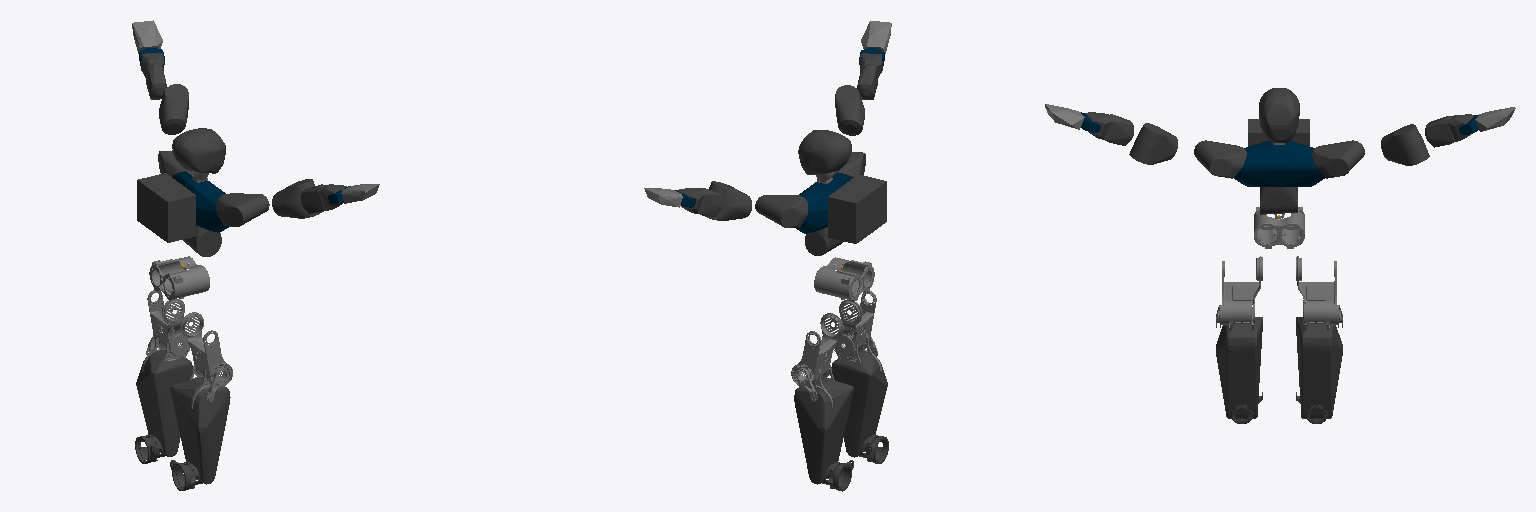
--- Facts derived from the render (not from the file) ---
The picture shows the robot from 3 angles, left to right: view 1: azimuth 30°, elevation 25°; view 2: azimuth 150°, elevation 25°; view 3: azimuth 270°, elevation 25°; orthographic projection.
Model bigman with 97 links and 96 joints (31 revolute, 1 continuous, 63 fixed, 1 floating), rooted at world, posed all joints at 0 but 2 set to mid-range because 0 is outside their limits (RShLat = -1.99, LShLat = 1.97).
Links seen in each view (by area): view 1: RLowLeg, LLowLeg, backpack, RThighLowLeg, LThighLowLeg, Waist, multisense/head, RShp, DWYTorso, LShy, RShy, DWS (+5 smaller); view 2: LLowLeg, RLowLeg, backpack, LThighLowLeg, RThighLowLeg, Waist, multisense/head, LShp, DWYTorso, RShy, LShy, RSoftHandLink (+6 smaller); view 3: LLowLeg, RLowLeg, DWYTorso, multisense/head, LThighLowLeg, RThighLowLeg, Waist, RShp, LShy, LShp, RShy, DWS (+5 smaller).
Link boxes in pixels (x1=…): RLowLeg: x1=170, y1=377, x2=230, y2=484; LLowLeg: x1=136, y1=350, x2=192, y2=456; backpack: x1=137, y1=173, x2=195, y2=242; RThighLowLeg: x1=180, y1=312, x2=232, y2=408; LThighLowLeg: x1=142, y1=290, x2=189, y2=371; Waist: x1=149, y1=256, x2=209, y2=300; multisense/head: x1=172, y1=128, x2=225, y2=173; RShp: x1=216, y1=193, x2=269, y2=226; DWYTorso: x1=172, y1=172, x2=228, y2=232; LShy: x1=159, y1=84, x2=188, y2=134; RShy: x1=272, y1=179, x2=319, y2=218; DWS: x1=183, y1=226, x2=221, y2=256; LLowLeg: x1=794, y1=378, x2=853, y2=484; RLowLeg: x1=831, y1=351, x2=887, y2=457; backpack: x1=828, y1=174, x2=886, y2=243; LThighLowLeg: x1=791, y1=313, x2=843, y2=407; RThighLowLeg: x1=834, y1=291, x2=881, y2=371; Waist: x1=814, y1=257, x2=874, y2=301; multisense/head: x1=798, y1=130, x2=851, y2=174; LShp: x1=755, y1=195, x2=807, y2=227; DWYTorso: x1=796, y1=173, x2=851, y2=233; RShy: x1=835, y1=85, x2=864, y2=135; LShy: x1=705, y1=181, x2=751, y2=220; RSoftHandLink: x1=861, y1=21, x2=891, y2=53; LLowLeg: x1=1296, y1=317, x2=1342, y2=418; RLowLeg: x1=1216, y1=317, x2=1262, y2=418; DWYTorso: x1=1234, y1=141, x2=1324, y2=186; multisense/head: x1=1259, y1=88, x2=1299, y2=142; LThighLowLeg: x1=1296, y1=256, x2=1342, y2=330; RThighLowLeg: x1=1216, y1=256, x2=1262, y2=330; Waist: x1=1254, y1=207, x2=1304, y2=248; RShp: x1=1194, y1=140, x2=1246, y2=178; LShy: x1=1381, y1=124, x2=1429, y2=165; LShp: x1=1312, y1=140, x2=1364, y2=178; RShy: x1=1129, y1=123, x2=1177, y2=164; DWS: x1=1260, y1=187, x2=1297, y2=214.
Bounding box of the posed robot: 0.6454 × 2.28 × 1.88 m (x, y, z).
24 mesh visuals loaded from 22 distinct referenced files (15 binary STL); not drawn: 3 (reference not matched to a file when rendering), 9 (file found but could not be loaded).

The robot description file, URDF, robot "bigman":
<?xml version="1.0" ?>
<!-- =================================================================================== -->
<!-- |    This document was autogenerated by xacro from bigman.urdf.xacro              | -->
<!-- |    EDITING THIS FILE BY HAND IS NOT RECOMMENDED                                 | -->
<!-- =================================================================================== -->
<robot name="bigman" xmlns:xacro="http://ros.org/wiki/xacro">
  <!-- 
  ROS urdf definition of the BIGMAN humanoid robot by Istituto Italiano di Tecnologia
  
  DO NOT INCLUDE THIS FILE DIRECTLY! USE bigman_robot.urdf.xacro INSTEAD!

  Author: Enrico Mingo & Alessio Rocchi

  Inertial matrix has to be in CoM frame (URDF specs)

  Velocity and effort limits are fake!
-->
  <!-- ************ MODEL CONFIGURATION ************ -->
  <!--
####################################################
##
##  BIGMAN_YARP
##  if "true" the bigman robot is controlled via YARP
##
####################################################
-->
  <!--
####################################################
##
##  BIGMAN_XBOT
##  if "true" the bigman robot is controlled via
##  XBotCore Suite
##
####################################################
-->
  <!--
####################################################
##
##  BIGMAN_UPPER_BODY
##  if "true" the kinematic chains of the arms and torso 
##  will be used to generate the model
##
####################################################
-->
  <!--
####################################################
##
##  BIGMAN_LEGS
##  if "true" the kinematic chains of the legs
##  will be used to generate the model
##
####################################################
-->
  <!--
####################################################
##
##  BIGMAN_OLD_CHEST
##  if "true" the old version of the chest will be
##  used.
##  
##
####################################################
-->
  <!--
####################################################
##
##  BIGMAN_FIXED_HANDS
##  if "true" a fixed joint between wrist and hand 
##  will be used otherwise a rotative joints will
##  be used.
##  
##
####################################################
-->
  <!--
####################################################
##
##  BIGMAN_FIXED_MULTISENSE
##  if "true" a fixed joint between "head" and 
##  "hokuyo_link" will be used otherwise a continuous 
##  joints will be used.
##  
##
####################################################
-->
  <!--
####################################################
##
##  BIGMAN_HEAD
##  if "true" a fixed joint between "NeckPitch" and
##  "head" will be used to connect the head to the rest
##  of the body. If "false" the head will not be added 
##  to the model (this is the case when the multisense
##  from the launch file is used). 
##  
##
####################################################
-->
  <!--
####################################################
##
##  BIGMAN_ADD_PROTECTIONS
##  if "true" the protections are added to the model.
##  
##
####################################################
-->
  <!--
####################################################
##
##  BIGMAN_ADD_BACKPACK
##  if "true" the backpack is added to the model.
##  
##
####################################################
-->
  <!--
####################################################
##
##  BIGMAN_ADD_RAISING_SUPPORT
##  if "true" the raising support are added to the model.
##  
##
####################################################
-->
  <!--
####################################################
##
##  BIGMAN_NEW_FEET
##  if "true" the new feet with the joint in the middle
##  are used to the model.
##  
##
####################################################
-->
  <!--
####################################################
##
##  BIGMAN_SAFETY_JOINT_LIMITS_X
##  if "true" the more strict joint limits are used 
##  for the X part
##  
##
####################################################
-->
  <!--
####################################################
##
##  BIGMAN_FLOATING_BASE
##  if "true" virtual kinematic chains is attached between 
##  "world" and "base_link"
##  
##
####################################################
-->
  <!--
####################################################
##
##  BIGMAN_MAGNETIC_ATTACH_ROS
##  if "true" the magnetic_attach_ros plugin is used
##  for the hands
##  
##
####################################################
-->
  <!-- ***********  MODEL COLORS *********** -->
  <material name="grey">
    <color rgba="0.5 0.5 0.5 1"/>
  </material>
  <material name="dark_grey">
    <color rgba="0.3 0.3 0.3 1"/>
  </material>
  <material name="blue">
    <color rgba="0.0 0.2 0.3 1"/>
  </material>
  <!-- ************ BIGMAN BASE ************** -->
  <!-- 
  ROS urdf definition of the BIGMAN humanoid robot by Istituto Italiano di Tecnologia
  
  DO NOT INCLUDE THIS FILE DIRECTLY! USE bigman_robot.urdf.xacro INSTEAD!

  Author: Enrico Mingo & Alessio Rocchi

  Inertial matrix has to be in CoM frame (URDF specs)

  Velocity and effort limits are fake!
-->
  <!--
The coordinate frame called base_link is rigidly attached to the robot root body. It is recommended to choose the robot waist as its root body. The base_link can be attached to the root in any arbitrary position or orientation; for every hardware platform there will be a different place on the base that provides an obvious point of reference. Note that REP 103 [1] specifies a preferred orientation for frames. -->
  <link name="base_link"/>
  <link name="Waist">
    <inertial>
      <origin rpy="0.0 0.0 0.0" xyz="-0.022813402 -0.00073935443 0.030422909"/>
      <mass value="1.1046081e+01"/>
      <inertia ixx="0.096207978" ixy="0.00014081043" ixz="0.0031258127" iyy="0.098511158" iyz="0.00013938149" izz="0.086541531"/>
    </inertial>
    <visual>
      <origin rpy="0 0 0" xyz="0 0 0"/>
      <geometry name="Waist_visual">
        <mesh filename="package://bigman_urdf/meshes/Waist.STL" scale="0.001 0.001 0.001"/>
      </geometry>
      <material name="grey"/>
    </visual>
    <collision>
      <origin rpy="0 0 0" xyz="0 0 0"/>
      <geometry name="Waist_collision">
        <mesh filename="package://bigman_urdf/meshes/simple/Waist.STL" scale="0.001 0.001 0.001"/>
      </geometry>
    </collision>
  </link>
  <joint name="base_joint" type="fixed">
    <parent link="base_link"/>
    <child link="Waist"/>
    <origin rpy="0 0 0" xyz="0 0 0"/>
  </joint>
  <!-- ********************TORSO******************** -->
  <!-- first real link of the robot, inertial reference frame -->
  <!-- Scale factor for meshes -->
  <!-- LINKS -->
  <!-- This links are defined in order to be compliant with http://www.ros.org/reps/rep-0120.html#coordinate-frames
and to define the end effectors of the robot-->
  <!-- The coordinate frame called torso is attached to the lowest body of the model which is a parent of l_gripper, r_gripper and gaze. -->
  <link name="torso"/>
  <link name="DWL">
    <inertial>
      <origin rpy="0 0 0" xyz="-0.04610869 0.02232230 -0.02249514"/>
      <mass value="1.44965471"/>
      <inertia ixx="0.01096760" ixy="0.00111556" ixz="0.00030030" iyy="0.00409572" iyz="0.00054456" izz="0.01143795"/>
    </inertial>
    <visual>
      <origin rpy="0 0 0" xyz="0.0 0.0 0.0"/>
      <geometry name="DWL_visual">
        <mesh filename="package://bigman_urdf/meshes/TorsoRoll.STL" scale="0.001 0.001 0.001"/>
      </geometry>
      <material name="dark_grey"/>
    </visual>
    <collision>
      <origin rpy="0 0 0" xyz="0.0 0.0 0.0"/>
      <geometry name="DWL_collision">
        <mesh filename="package://bigman_urdf/meshes/simple/TorsoRoll.STL" scale="0.001 0.001 0.001"/>
      </geometry>
    </collision>
  </link>
  <link name="DWS">
    <inertial>
      <origin rpy="0 0 0" xyz="0.00010203 0.00928164 0.08113610"/>
      <mass value="5.28825567"/>
      <inertia ixx="0.01628069" ixy="-0.00000323" ixz="0.00001424" iyy="0.01424286" iyz="0.00075458" izz="0.00994169"/>
    </inertial>
    <visual>
      <origin rpy="0 0 0" xyz="0.0 0.0 0.0"/>
      <geometry name="DWS_visual">
        <mesh filename="package://bigman_urdf/meshes/TorsoYawPitch.STL" scale="0.001 0.001 0.001"/>
      </geometry>
      <material name="dark_grey"/>
    </visual>
    <collision>
      <origin rpy="0 0 0" xyz="0.0 0.0 0.0"/>
      <geometry name="DWS_collision">
        <mesh filename="package://bigman_urdf/meshes/simple/TorsoYawPitch.STL" scale="0.001 0.001 0.001"/>
      </geometry>
    </collision>
  </link>
  <link name="DWYTorso">
    <inertial>
      <origin rpy="0 0 0" xyz="0.0 0.00 0.3"/>
      <mass value="26"/>
      <inertia ixx="0.18629757" ixy="0.00008160" ixz="0.00030250" iyy="0.02013829" iyz="-0.00001790" izz="0.18850541"/>
    </inertial>
    <visual>
      <origin rpy="0 0 0" xyz="0.0 0.0 0.0"/>
      <geometry name="DWYTorso_visual">
        <mesh filename="package://bigman_urdf/meshes/NewChest.STL" scale="0.001 0.001 0.001"/>
      </geometry>
      <material name="blue"/>
    </visual>
    <collision>
      <origin rpy="0 0 0" xyz="0.0 0.0 0.0"/>
      <geometry name="DWYTorso_collision">
        <mesh filename="package://bigman_urdf/meshes/simple/NewChest.STL" scale="0.001 0.001 0.001"/>
      </geometry>
    </collision>
  </link>
  <!-- UPDATE DATA FOR TORSO PROTECTION! -->
  <!-- UPDATE DATA FOR TORSO PROTECTION! -->
  <link name="backpack">
    <inertial>
      <origin rpy="0 0 0" xyz="0 0 -0.065"/>
      <mass value="10.0"/>
      <inertia ixx="0.0890833333333" ixy="0.0" ixz="0.0" iyy="0.0354166666667" iyz="0.0" izz="0.0963333333333"/>
    </inertial>
    <visual>
      <origin rpy="0 0 0" xyz="0.0 0.0 0.0"/>
      <geometry name="backpack_visual">
        <box size="0.16 0.3 0.22"/>
      </geometry>
      <material name="dark_grey"/>
    </visual>
    <collision>
      <origin rpy="0 0 0" xyz="0.0 0.0 0.0"/>
      <geometry name="backpack_collision">
        <box size="0.16 0.3 0.22"/>
      </geometry>
    </collision>
  </link>
  <!-- JOINTS -->
  <joint name="backpack_joint" type="fixed">
    <parent link="DWYTorso"/>
    <child link="backpack"/>
    <origin rpy="0 0 0" xyz="-0.185 0 -0.025"/>
  </joint>
  <joint name="torso_joint" type="fixed">
    <parent link="DWYTorso"/>
    <child link="torso"/>
    <origin rpy="0 0 0" xyz="0.0 0 0.0"/>
  </joint>
  <joint name="WaistLat" type="revolute">
    <parent link="Waist"/>
    <child link="DWL"/>
    <origin rpy="0 0 0" xyz="0.1115 0 0.195982"/>
    <axis xyz="0.89879991307 0 0.43835911792"/>
    <limit effort="120" lower="-0.610865238196" upper="0.610865238196" velocity="6.283"/>
    <dynamics damping="3.0" friction="0"/>
  </joint>
  <joint name="WaistSag" type="revolute">
    <parent link="DWL"/>
    <child link="DWS"/>
    <origin rpy="0 0 0" xyz="0 0 0"/>
    <axis xyz="0 1 0"/>
    <limit effort="220" lower="-0.349065850398" upper="1.39626340159" velocity="6.283"/>
    <dynamics damping="3.0" friction="0"/>
  </joint>
  <joint name="WaistYaw" type="revolute">
    <parent link="DWS"/>
    <child link="DWYTorso"/>
    <origin rpy="0 0 0" xyz="0 0 0.22275"/>
    <axis xyz="0 0 1"/>
    <limit effort="120" lower="-2.84488668074" upper="2.84488668074" velocity="6.283"/>
    <dynamics damping="3.0" friction="0"/>
  </joint>
  <!-- ********************NECK********************* -->
  <!-- LINKS -->
  <link name="NeckYaw">
    <inertial>
      <origin rpy="0 0 0" xyz="0.0 0.0 0.1155"/>
      <mass value="0.35"/>
      <inertia ixx="0.00032840119" ixy="0.0" ixz="0.0" iyy="7.0371675e-05" iyz="0.0" izz="0.00032840111"/>
    </inertial>
    <visual>
      <origin rpy="0 0 0" xyz="0.0 0.0 0.0"/>
      <geometry name="NeckYaw_visual">
        <mesh filename="package://bigman_urdf/meshes/NeckYaw.STL" scale="0.001 0.001 0.001"/>
      </geometry>
      <material name="grey"/>
    </visual>
    <collision>
      <origin rpy="0 0 0" xyz="0.0 0.0 0.0"/>
      <geometry name="NeckYaw_collision">
        <mesh filename="package://bigman_urdf/meshes/simple/NeckYaw.STL" scale="0.001 0.001 0.001"/>
      </geometry>
    </collision>
  </link>
  <link name="NeckPitch">
    <inertial>
      <origin rpy="0 0 0" xyz="-0.102 0.0 0.26575"/>
      <mass value="0.623"/>
      <inertia ixx="0.0010388333" ixy="0.0" ixz="0.0" iyy="0.00054689381" iyz="0.0" izz="0.00054689381"/>
    </inertial>
    <visual>
      <origin rpy="0 0 0" xyz="0.0 0.0 0.0"/>
      <geometry name="NeckPitch_visual">
        <mesh filename="package://bigman_urdf/meshes/NeckPitch.STL" scale="0.001 0.001 0.001"/>
      </geometry>
      <material name="grey"/>
    </visual>
    <collision>
      <origin rpy="0 0 0" xyz="0.0 0.0 0.0"/>
      <geometry name="NeckPitch_collision">
        <mesh filename="package://bigman_urdf/meshes/simple/NeckPitch.STL" scale="0.001 0.001 0.001"/>
      </geometry>
    </collision>
  </link>
  <!-- JOINTS -->
  <joint name="NeckYawj" type="revolute">
    <parent link="DWYTorso"/>
    <child link="NeckYaw"/>
    <origin rpy="0 0 0" xyz="0 0 0"/>
    <axis xyz="0 0 1"/>
    <!--     <limit velocity="6.283" effort="120" lower="${(-175.0)*toRad}" upper="${(175.0)*toRad}" /> -->
    <limit effort="120" lower="-0.610865238196" upper="0.610865238196" velocity="6.283"/>
    <dynamics damping="3.0" friction="0"/>
  </joint>
  <joint name="NeckPitchj" type="revolute">
    <parent link="NeckYaw"/>
    <child link="NeckPitch"/>
    <origin rpy="0 0 0" xyz="0 0 0.117"/>
    <axis xyz="0 1 0"/>
    <!--limit velocity="6.283" effort="120" lower="${(-30.0)*toRad}" upper="${(70.0)*toRad}" /-->
    <limit effort="120" lower="-0.261799387798" upper="1.04719755119" velocity="6.283"/>
    <dynamics damping="3.0" friction="0"/>
  </joint>
  <!-- ********************LEGS******************** -->
  <!-- This links are defined in order to be compliant with http://www.ros.org/reps/rep-0120.html#coordinate-frames
	and to define the end effectors of the robot -->
  <!--  position and orientation of the leg regardless of the support body geometry -->
  <link name="l_ankle"/>
  <link name="r_ankle"/>
  <!-- position and orientation of the left leg support body. The (X,Y) plane of this frame must be coplanar with the support body contact surface. It is recommended to choose the origin as the projection of the support body origin on the contact surface. The Z coordinate of this frame should be on the ground level when standing. -->
  <link name="l_sole"/>
  <link name="r_sole"/>
  <!--  position and orientation of the leg toe body. The (X,Y) plan of this frame must be coplanar with the toe body contact surface. It is recommended to choose the origin as the projection of the body center on the contact surface. -->
  <link name="l_toe"/>
  <link name="r_toe"/>
  <!-- LINKS -->
  <!-- ********************RIGHT LEG******************** -->
  <link name="RHipMot">
    <inertial>
      <origin rpy="0 0 0" xyz="-0.10348188 -0.10919813 -0.064924056"/>
      <mass value="3.7958197"/>
      <inertia ixx="0.015639017" ixy="0.0018504661" ixz="0.0023907793" iyy="0.023519749" iyz="-0.0023303162" izz="0.020953643"/>
    </inertial>
    <visual>
      <origin rpy="0 0 0" xyz="0 0 0"/>
      <geometry name="RHipMot_visual">
        <mesh filename="package://bigman_urdf/meshes/HipRoll.STL" scale="0.001 0.001 0.001"/>
      </geometry>
      <material name="dark_grey"/>
    </visual>
    <collision>
      <origin rpy="0 0 0" xyz="0 0 0"/>
      <geometry name="RHipMot_collision">
        <mesh filename="package://bigman_urdf/meshes/simple/HipRoll.STL" scale="0.001 0.001 0.001"/>
      </geometry>
    </collision>
  </link>
  <link name="RThighUpLeg">
    <inertial>
      <origin rpy="0 0 0" xyz="-0.0052929709 -0.022561833 0.0056701669"/>
      <mass value="3.2402068"/>
      <inertia ixx="0.010102097" ixy="0.00010858487" ixz="0.00025291395" iyy="0.0067147" iyz="8.3447072e-05" izz="0.01048513"/>
    </inertial>
    <visual>
      <origin rpy="0 0 0" xyz="0 0 0"/>
      <geometry name="RThighUpLeg_visual">
        <mesh filename="package://bigman_urdf/meshes/HipYaw.STL" scale="0.001 0.001 0.001"/>
      </geometry>
      <material name="dark_grey"/>
    </visual>
    <collision>
      <origin rpy="0 0 0" xyz="0 0 0"/>
      <geometry name="RThighUpLeg_collision">
        <mesh filename="package://bigman_urdf/meshes/simple/HipYaw.STL" scale="0.001 0.001 0.001"/>
      </geometry>
    </collision>
  </link>
  <link name="RThighLowLeg">
    <inertial>
      <origin rpy="0 0 0" xyz="0.037746286 -0.028539939 -0.19310133"/>
      <mass value="5.0950736"/>
      <inertia ixx="0.051607858" ixy="0.0022253472" ixz="0.002452979" iyy="0.044349153" iyz="-0.0041006942" izz="0.023374453"/>
    </inertial>
    <visual>
      <origin rpy="0 0 0" xyz="0 0 0"/>
      <geometry name="RThighLowLeg_visual">
        <mesh filename="package://bigman_urdf/meshes/HipPitch.STL" scale="0.001 0.001 0.001"/>
      </geometry>
      <material name="grey"/>
    </visual>
    <collision>
      <origin rpy="0 0 0" xyz="0 0 0"/>
      <geometry name="RThighLowLeg_collision">
        <mesh filename="package://bigman_urdf/meshes/simple/HipPitch.STL" scale="0.001 0.001 0.001"/>
      </geometry>
    </collision>
  </link>
  <link name="RLowLeg">
    <inertial>
      <origin rpy="0 0 0" xyz="-0.0050828668 0.0037732093 -0.072605017"/>
      <mass value="5.6495309"/>
      <inertia ixx="0.10535542" ixy="-0.00058199221" ixz="0.0016743598" iyy="0.097857796" iyz="-0.0033770181" izz="0.020854086"/>
    </inertial>
    <visual>
      <origin rpy="0 0 0" xyz="0 0 0"/>
      <geometry name="RLowLeg_visual">
        <mesh filename="package://bigman_urdf/meshes/KneePitchCalf.STL" scale="0.001 0.001 0.001"/>
      </geometry>
      <material name="dark_grey"/>
    </visual>
    <collision>
      <origin rpy="0 0 0" xyz="0 0 0"/>
      <geometry name="RLowLeg_collision">
        <mesh filename="package://bigman_urdf/meshes/simple/KneePitchCalf.STL" scale="0.001 0.001 0.001"/>
      </geometry>
    </collision>
  </link>
  <link name="RFootmot">
    <inertial>
      <origin rpy="0 0 0" xyz="-0.022024173 0.0025677238 0.00094588455"/>
      <mass value="3.2844159"/>
      <inertia ixx="0.0075550679" ixy="0.00067488292" ixz="5.8332889e-05" iyy="0.011241163" iyz="-0.00014552081" izz="0.013391865"/>
    </inertial>
    <visual>
      <origin rpy="0 0 0" xyz="0 0 0"/>
      <geometry name="RFootmot_visual">
        <mesh filename="package://bigman_urdf/meshes/AnklePitch.STL" scale="0.001 0.001 0.001"/>
      </geometry>
      <material name="dark_grey"/>
    </visual>
    <collision>
      <origin rpy="0 0 0" xyz="0 0 0"/>
      <geometry name="RFootmot_collision">
        <mesh filename="package://bigman_urdf/meshes/simple/AnklePitch.STL" scale="0.001 0.001 0.001"/>
      </geometry>
    </collision>
  </link>
  <link name="RFoot">
    <inertial>
      <origin rpy="0 0 0" xyz="-0.00653584 -0.00479384 -0.10180375"/>
      <mass value="3.42638110"/>
      <inertia ixx="0.01032886" ixy="-0.00016407" ixz="-0.00201294" iyy="0.02854025" iyz="0.00046315" izz="0.02799499"/>
    </inertial>
    <visual>
      <origin rpy="0 0 0" xyz="0 0 0"/>
      <geometry name="RFoot_visual">
        <mesh filename="package://bigman_urdf/meshes/NewFoot.STL" scale="0.001 0.001 0.001"/>
      </geometry>
      <material name="dark_grey"/>
    </visual>
    <collision>
      <!--<origin xyz="0 0 0" rpy="0 0 0"/>
      <geometry name="RFoot_collision">
        <mesh filename="package://bigman_urdf/meshes/simple/Foot.STL" scale="0.001 -0.001 0.001"/>
      </geometry>-->
      <origin rpy="0 0 0" xyz="0.005 -0.01 -0.1359"/>
      <geometry>
        <box size="0.32 0.16 0.015"/>
      </geometry>
    </collision>
  </link>
  <!-- ********************LEFT LEG******************** -->
  <link name="LHipMot">
    <inertial>
      <origin rpy="0 0 0" xyz="-0.10348188 0.10919813 -0.064924056"/>
      <mass value="3.7958197"/>
      <inertia ixx="0.015639017" ixy="-0.0018504661" ixz="0.0023907793" iyy="0.023519749" iyz="0.0023303162" izz="0.020953643"/>
    </inertial>
    <visual>
      <origin rpy="0 0 0" xyz="0 0 0"/>
      <geometry name="LHipMot_visual">
        <mesh filename="package://bigman_urdf/meshes/HipRoll.STL" scale="0.001 -0.001 0.001"/>
      </geometry>
      <material name="dark_grey"/>
    </visual>
    <collision>
      <origin rpy="0 0 0" xyz="0 0 0"/>
      <geometry name="LHipMot_collision">
        <mesh filename="package://bigman_urdf/meshes/simple/HipRoll.STL" scale="0.001 -0.001 0.001"/>
      </geometry>
    </collision>
  </link>
  <link name="LThighUpLeg">
    <inertial>
      <origin rpy="0 0 0" xyz="-0.0052929709 0.022561833 0.0056701669"/>
      <mass value="3.2402068"/>
      <inertia ixx="0.010102097" ixy="-0.00010858487" ixz="0.00025291395" iyy="0.0067147" iyz="-8.3447072e-05" izz="0.01048513"/>
    </inertial>
    <visual>
      <origin rpy="0 0 0" xyz="0 0 0"/>
      <geometry name="LThighUpLeg_visual">
        <mesh filename="package://bigman_urdf/meshes/HipYaw.STL" scale="0.001 -0.001 0.001"/>
      </geometry>
      <material name="dark_grey"/>
    </visual>
    <collision>
      <origin rpy="0 0 0" xyz="0 0 0"/>
      <geometry name="LThighUpLeg_collision">
        <mesh filename="package://bigman_urdf/meshes/simple/HipYaw.STL" scale="0.001 -0.001 0.001"/>
      </geometry>
    </collision>
  </link>
  <link name="LThighLowLeg">
    <inertial>
      <origin rpy="0 0 0" xyz="0.037746286 0.028539939 -0.19310133"/>
      <mass value="5.0950736"/>
      <inertia ixx="0.051607858" ixy="-0.0022253472" ixz="0.002452979" iyy="0.044349153" iyz="0.0041006942" izz="0.023374453"/>
    </inertial>
    <visual>
      <origin rpy="0 0 0" xyz="0 0 0"/>
      <geometry name="LThighLowLeg_visual">
        <mesh filename="package://bigman_urdf/meshes/HipPitch.STL" scale="0.001 -0.001 0.001"/>
      </geometry>
      <material name="grey"/>
    </visual>
    <collision>
      <origin rpy="0 0 0" xyz="0 0 0"/>
      <geometry name="LThighLowLeg_collision">
        <mesh filename="package://bigman_urdf/meshes/simple/HipPitch.STL" scale="0.001 -0.001 0.001"/>
      </geometry>
    </collision>
  </link>
  <link name="LLowLeg">
    <inertial>
      <origin rpy="0 0 0" xyz="-0.0050828668 -0.0037732093 -0.072605017"/>
      <mass value="5.6495309"/>
      <inertia ixx="0.10535542" ixy="0.00058199221" ixz="0.0016743598" iyy="0.097857796" iyz="0.0033770181" izz="0.020854086"/>
    </inertial>
    <visual>
      <origin rpy="0 0 0" xyz="0 0 0"/>
      <geometry name="LLowLeg_visual">
        <mesh filename="package://bigman_urdf/meshes/KneePitchCalf.STL" scale="0.001 -0.001 0.001"/>
      </geometry>
      <material name="dark_grey"/>
    </visual>
    <collision>
      <origin rpy="0 0 0" xyz="0 0 0"/>
      <geometry name="LLowLeg_collision">
        <mesh filename="package://bigman_urdf/meshes/simple/KneePitchCalf.STL" scale="0.001 -0.001 0.001"/>
      </geometry>
    </collision>
  </link>
  <link name="LFootmot">
    <inertial>
      <origin rpy="0 0 0" xyz="-0.022024173 -0.0025677238 0.00094588455"/>
      <mass value="3.2844159"/>
      <inertia ixx="0.0075550679" ixy="-0.00067488292" ixz="5.8332889e-05" iyy="0.011241163" iyz="0.00014552081" izz="0.013391865"/>
    </inertial>
    <visual>
      <origin rpy="0 0 0" xyz="0 0 0"/>
      <geometry name="LFootmot_visual">
        <mesh filename="package://bigman_urdf/meshes/AnklePitch.STL" scale="0.001 -0.001 0.001"/>
      </geometry>
      <material name="dark_grey"/>
    </visual>
    <collision>
      <origin rpy="0 0 0" xyz="0 0 0"/>
      <geometry name="LFootmot_collision">
        <mesh filename="package://bigman_urdf/meshes/simple/AnklePitch.STL" scale="0.001 -0.001 0.001"/>
      </geometry>
    </collision>
  </link>
  <link name="LFoot">
    <inertial>
      <origin rpy="0 0 0" xyz="-0.00653584 0.00479384 -0.10180375"/>
      <mass value="3.42638110"/>
      <inertia ixx="0.01032886" ixy="0.00016407" ixz="-0.00201294" iyy="0.02854025" iyz="-0.00046315" izz="0.02799499"/>
    </inertial>
    <visual>
      <origin rpy="0 0 0" xyz="0 0 0"/>
      <geometry name="LFoot_visual">
        <mesh filename="package://bigman_urdf/meshes/NewFoot.STL" scale="0.001 -0.001 0.001"/>
      </geometry>
      <material name="dark_grey"/>
    </visual>
    <collision>
      <!--
      <origin xyz="0 0 0" rpy="0 0 0"/>
      <geometry name="LFoot_collision">
        <mesh filename="package://bigman_urdf/meshes/simple/Foot.STL" scale="0.001 0.001 0.001"/>
      </geometry>
      -->
      <origin rpy="0 0 0" xyz="0.005 0.01 -0.1359"/>
      <geometry>
        <box size="0.32 0.16 0.015"/>
      </geometry>
    </collision>
  </link>
  <!-- JOINTS -->
  <!-- ********************RIGHT LEG******************** -->
  <joint name="RHipLat" type="revolute">
    <parent link="Waist"/>
    <child link="RHipMot"/>
    <origin rpy="0 0 0" xyz="0.1059 -0.06 0.0"/>
    <axis xyz="1 0 0"/>
    <limit effort="400" lower="-0.87222" upper="0.697778" velocity="6.283"/>
    <dynamics damping="3.0" friction="0"/>
  </joint>
  <joint name="RHipYaw" type="revolute">
    <parent link="RHipMot"/>
    <child link="RThighUpLeg"/>
    <origin rpy="0 0 0" xyz="-0.0889 -0.121032 -0.217872"/>
    <axis xyz="0 0 1"/>
    <limit effort="140" lower="-1.57" upper="0.872222" velocity="6.283"/>
    <dynamics damping="3.0" friction="0"/>
  </joint>
  <joint name="RHipSag" type="revolute">
    <parent link="RThighUpLeg"/>
    <child link="RThighLowLeg"/>
    <origin rpy="0 0 0" xyz="0.0 0.0 0.0"/>
    <axis xyz="0 1 0"/>
    <limit effort="400" lower="-2.09333" upper="1.046667" velocity="6.283"/>
    <dynamics damping="3.0" friction="0"/>
  </joint>
  <joint name="RKneeSag" type="revolute">
    <parent link="RThighLowLeg"/>
    <child link="RLowLeg"/>
    <origin rpy="0 0 0" xyz="0.0 0.0 -0.356"/>
    <axis xyz="0 1 0"/>
    <limit effort="400" lower="0.0" upper="2.442222" velocity="6.283"/>
    <dynamics damping="3.0" friction="0"/>
  </joint>
  <joint name="RAnkSag" type="revolute">
    <parent link="RLowLeg"/>
    <child link="RFootmot"/>
    <origin rpy="0 0 0" xyz="0.0 0.0 -0.4"/>
    <axis xyz="0 1 0"/>
    <limit effort="330" lower="-1.39556" upper="0.697778" velocity="6.283"/>
    <dynamics damping="3.0" friction="0"/>
  </joint>
  <joint name="RAnkLat" type="revolute">
    <parent link="RFootmot"/>
    <child link="RFoot"/>
    <origin rpy="0 0 0" xyz="0.0 0.0 0.0"/>
    <axis xyz="1 0 0"/>
    <limit effort="210" lower="-0.785" upper="0.785" velocity="6.283"/>
    <dynamics damping="3.0" friction="0"/>
  </joint>
  <!-- ********************LEFT LEG******************** -->
  <joint name="LHipLat" type="revolute">
    <parent link="Waist"/>
    <child link="LHipMot"/>
    <origin rpy="0 0 0" xyz="0.1059 0.06 0.0"/>
    <axis xyz="1 0 0"/>
    <limit effort="400" lower="-0.697778" upper="0.87222" velocity="6.283"/>
    <dynamics damping="3.0" friction="0"/>
  </joint>
  <joint name="LHipYaw" type="revolute">
    <parent link="LHipMot"/>
    <child link="LThighUpLeg"/>
    <origin rpy="0 0 0" xyz="-0.0889 0.121032 -0.217872"/>
    <axis xyz="0 0 1"/>
    <limit effort="140" lower="-0.872222" upper="1.57" velocity="6.283"/>
    <dynamics damping="3.0" friction="0"/>
  </joint>
  <joint name="LHipSag" type="revolute">
    <parent link="LThighUpLeg"/>
    <child link="LThighLowLeg"/>
    <origin rpy="0 0 0" xyz="0.0 0.0 0.0"/>
    <axis xyz="0 1 0"/>
    <limit effort="400" lower="-2.09333" upper="1.046667" velocity="6.283"/>
    <dynamics damping="3.0" friction="0"/>
  </joint>
  <joint name="LKneeSag" type="revolute">
    <parent link="LThighLowLeg"/>
    <child link="LLowLeg"/>
    <origin rpy="0 0 0" xyz="0.0 0.0 -0.356"/>
    <axis xyz="0 1 0"/>
    <limit effort="400" lower="0.0" upper="2.442222" velocity="6.283"/>
    <dynamics damping="3.0" friction="0"/>
  </joint>
  <joint name="LAnkSag" type="revolute">
    <parent link="LLowLeg"/>
    <child link="LFootmot"/>
    <origin rpy="0 0 0" xyz="0.0 0.0 -0.4"/>
    <axis xyz="0 1 0"/>
    <limit effort="330" lower="-1.39556" upper="0.697778" velocity="6.283"/>
    <dynamics damping="3.0" friction="0"/>
  </joint>
  <joint name="LAnkLat" type="revolute">
    <parent link="LFootmot"/>
    <child link="LFoot"/>
    <origin rpy="0 0 0" xyz="0.0 0.0 0.0"/>
    <axis xyz="1 0 0"/>
    <limit effort="210" lower="-0.785" upper="0.785" velocity="6.283"/>
    <dynamics damping="3.0" friction="0"/>
  </joint>
  <joint name="l_ankle_joint" type="fixed">
    <parent link="LFoot"/>
    <child link="l_ankle"/>
    <origin rpy="0 0 0" xyz="0 0 0"/>
  </joint>
  <joint name="r_ankle_joint" type="fixed">
    <parent link="RFoot"/>
    <child link="r_ankle"/>
    <origin rpy="0 0 0" xyz="0 0 0"/>
  </joint>
  <joint name="l_sole_joint" type="fixed">
    <parent link="LFoot"/>
    <child link="l_sole"/>
    <origin rpy="0 0 0" xyz="0 0 -0.1435"/>
  </joint>
  <joint name="r_sole_joint" type="fixed">
    <parent link="RFoot"/>
    <child link="r_sole"/>
    <origin rpy="0 0 0" xyz="0 0 -0.1435"/>
  </joint>
  <joint name="l_toe_joint" type="fixed">
    <parent link="l_sole"/>
    <child link="l_toe"/>
    <origin rpy="0 0 0" xyz="0.16 0 0"/>
  </joint>
  <joint name="r_toe_joint" type="fixed">
    <parent link="r_sole"/>
    <child link="r_toe"/>
    <origin rpy="0 0 0" xyz="0.16 0 0"/>
  </joint>
  <!-- Reference frames in feet -->
  <!-- macro for reference frames in foot -->
  <!-- macro for one reference frame in foot -->
  <link name="l_foot_upper_right_link"/>
  <joint name="l_foot_upper_right_joint" type="fixed">
    <origin rpy="0 0 0" xyz="0.16 -0.07 0"/>
    <parent link="l_sole"/>
    <child link="l_foot_upper_right_link"/>
  </joint>
  <!-- macro for one reference frame in foot -->
  <link name="l_foot_upper_left_link"/>
  <joint name="l_foot_upper_left_joint" type="fixed">
    <origin rpy="0 0 0" xyz="0.16 0.09 0"/>
    <parent link="l_sole"/>
    <child link="l_foot_upper_left_link"/>
  </joint>
  <!-- macro for one reference frame in foot -->
  <link name="l_foot_lower_right_link"/>
  <joint name="l_foot_lower_right_joint" type="fixed">
    <origin rpy="0 0 0" xyz="-0.16 -0.07 0"/>
    <parent link="l_sole"/>
    <child link="l_foot_lower_right_link"/>
  </joint>
  <!-- macro for one reference frame in foot -->
  <link name="l_foot_lower_left_link"/>
  <joint name="l_foot_lower_left_joint" type="fixed">
    <origin rpy="0 0 0" xyz="-0.16 0.09 0"/>
    <parent link="l_sole"/>
    <child link="l_foot_lower_left_link"/>
  </joint>
  <!-- macro for reference frames in foot -->
  <!-- macro for one reference frame in foot -->
  <link name="r_foot_upper_right_link"/>
  <joint name="r_foot_upper_right_joint" type="fixed">
    <origin rpy="0 0 0" xyz="0.16 0.07 0"/>
    <parent link="r_sole"/>
    <child link="r_foot_upper_right_link"/>
  </joint>
  <!-- macro for one reference frame in foot -->
  <link name="r_foot_upper_left_link"/>
  <joint name="r_foot_upper_left_joint" type="fixed">
    <origin rpy="0 0 0" xyz="0.16 -0.09 0"/>
    <parent link="r_sole"/>
    <child link="r_foot_upper_left_link"/>
  </joint>
  <!-- macro for one reference frame in foot -->
  <link name="r_foot_lower_right_link"/>
  <joint name="r_foot_lower_right_joint" type="fixed">
    <origin rpy="0 0 0" xyz="-0.16 0.07 0"/>
    <parent link="r_sole"/>
    <child link="r_foot_lower_right_link"/>
  </joint>
  <!-- macro for one reference frame in foot -->
  <link name="r_foot_lower_left_link"/>
  <joint name="r_foot_lower_left_joint" type="fixed">
    <origin rpy="0 0 0" xyz="-0.16 -0.09 0"/>
    <parent link="r_sole"/>
    <child link="r_foot_lower_left_link"/>
  </joint>
  <!-- ********************ARMS******************** -->
  <!-- LINKS -->
  <!-- RIGHT ARM -->
  <link name="RShp">
    <inertial>
      <origin rpy="0 0 0" xyz="-0.00543349 -0.04480023 0.01581062"/>
      <mass value="1.81745527"/>
      <inertia ixx="0.00571053" ixy="0.00041083" ixz="-0.00005130" iyy="0.01126908" iyz="-0.00003461" izz="0.01371197"/>
    </inertial>
    <visual>
      <origin rpy="0 0 0" xyz="0 0 0"/>
      <geometry name="RShp_visual">
        <mesh filename="package://bigman_urdf/meshes/ShoulderPitch.STL" scale="0.001 0.001 0.001"/>
      </geometry>
      <material name="dark_grey"/>
    </visual>
    <collision>
      <origin rpy="0 0 0" xyz="0 0 0"/>
      <geometry name="RShp_collision">
        <mesh filename="package://bigman_urdf/meshes/simple/ShoulderPitch.STL" scale="0.001 0.001 0.001"/>
      </geometry>
    </collision>
  </link>
  <link name="RShr">
    <inertial>
      <origin rpy="0 0 0" xyz="0.00729315 0.00002698 -0.07529696"/>
      <mass value="5.00486460"/>
      <inertia ixx="0.01644345" ixy="-0.00001187" ixz="-0.00010546" iyy="0.01804804" iyz="-0.00000565" izz="0.00802420"/>
    </inertial>
    <visual>
      <origin rpy="0 0 0" xyz="0 0 0"/>
      <geometry name="RShr_visual">
        <mesh filename="package://bigman_urdf/meshes/TopUpperArm.STL" scale="0.001 0.001 0.001"/>
      </geometry>
      <material name="dark_grey"/>
    </visual>
    <collision>
      <origin rpy="0 0 0" xyz="0 0 0"/>
      <geometry name="RShr_collision">
        <mesh filename="package://bigman_urdf/meshes/simple/TopUpperArm.STL" scale="0.001 0.001 0.001"/>
      </geometry>
    </collision>
  </link>
  <link name="RShy">
    <inertial>
      <origin rpy="0 0 0" xyz="0.02765373 -0.03258647 -0.12698781"/>
      <mass value="3.20289133"/>
      <inertia ixx="0.01129046" ixy="0.00013518" ixz="-0.00134760" iyy="0.00984951" iyz="-0.00026836" izz="0.00728549"/>
    </inertial>
    <visual>
      <origin rpy="0 0 0" xyz="0 0 0"/>
      <geometry name="RShy_visual">
        <mesh filename="package://bigman_urdf/meshes/BottomUpperArm.STL" scale="0.001 0.001 0.001"/>
      </geometry>
      <material name="dark_grey"/>
    </visual>
    <collision>
      <origin rpy="0 0 0" xyz="0 0 0"/>
      <geometry name="RShy_collision">
        <mesh filename="package://bigman_urdf/meshes/simple/BottomUpperArm.STL" scale="0.001 0.001 0.001"/>
      </geometry>
    </collision>
  </link>
  <link name="RElb">
    <inertial>
      <origin rpy="0 0 0" xyz="-0.055754915 -0.007582604 -0.043820396"/>
      <mass value="8.6765385e-01"/>
      <inertia ixx="0.0040395238" ixy="0.00034973136" ixz="-0.00068400465" iyy="0.0022460561" iyz="0.00028844444" izz="0.0044895027"/>
    </inertial>
    <visual>
      <origin rpy="0 0 0" xyz="0 0 0"/>
      <geometry name="RElb_visual">
        <mesh filename="package://bigman_urdf/meshes/Elbow.STL" scale="0.001 0.001 0.001"/>
      </geometry>
      <material name="dark_grey"/>
    </visual>
    <collision>
      <origin rpy="0 0 0" xyz="0 0 0"/>
      <geometry name="RElb_collision">
        <mesh filename="package://bigman_urdf/meshes/simple/Elbow.STL" scale="0.001 0.001 0.001"/>
      </geometry>
    </collision>
  </link>
  <!-- LEFT ARM -->
  <link name="LShp">
    <inertial>
      <origin rpy="0 0 0" xyz="-0.00543349 0.04480023 0.01581062"/>
      <mass value="1.81745527"/>
      <inertia ixx="0.00571053" ixy="-0.00041083" ixz="-0.00005130" iyy="0.01126908" iyz="0.00003461" izz="0.01371197"/>
    </inertial>
    <visual>
      <origin rpy="0 0 0" xyz="0 0 0"/>
      <geometry name="LShp_visual">
        <mesh filename="package://bigman_urdf/meshes/ShoulderPitch.STL" scale="0.001 -0.001 0.001"/>
      </geometry>
      <material name="dark_grey"/>
    </visual>
    <collision>
      <origin rpy="0 0 0" xyz="0 0 0"/>
      <geometry name="LShp_collision">
        <mesh filename="package://bigman_urdf/meshes/simple/ShoulderPitch.STL" scale="0.001 -0.001 0.001"/>
      </geometry>
    </collision>
  </link>
  <link name="LShr">
    <inertial>
      <origin rpy="0 0 0" xyz="0.00729315 -0.00002698 -0.07529696"/>
      <mass value="5.00486460"/>
      <inertia ixx="0.01644345" ixy="0.00001187" ixz="-0.00010546" iyy="0.01804804" iyz="0.00000565" izz="0.00802420"/>
    </inertial>
    <visual>
      <origin rpy="0 0 0" xyz="0 0 0"/>
      <geometry name="LShr_visual">
        <mesh filename="package://bigman_urdf/meshes/TopUpperArm.STL" scale="0.001 -0.001 0.001"/>
      </geometry>
      <material name="dark_grey"/>
    </visual>
    <collision>
      <origin rpy="0 0 0" xyz="0 0 0"/>
      <geometry name="LShr_collision">
        <mesh filename="package://bigman_urdf/meshes/simple/TopUpperArm.STL" scale="0.001 -0.001 0.001"/>
      </geometry>
    </collision>
  </link>
  <link name="LShy">
    <inertial>
      <origin rpy="0 0 0" xyz="0.02765373 0.03258647 -0.12698781"/>
      <mass value="3.20289133"/>
      <inertia ixx="0.01129046" ixy="-0.00013518" ixz="-0.00134760" iyy="0.00984951" iyz="0.00026836" izz="0.00728549"/>
    </inertial>
    <visual>
      <origin rpy="0 0 0" xyz="0 0 0"/>
      <geometry name="LShy_visual">
        <mesh filename="package://bigman_urdf/meshes/BottomUpperArm.STL" scale="0.001 -0.001 0.001"/>
      </geometry>
      <material name="dark_grey"/>
    </visual>
    <collision>
      <origin rpy="0 0 0" xyz="0 0 0"/>
      <geometry name="LShy_collision">
        <mesh filename="package://bigman_urdf/meshes/simple/BottomUpperArm.STL" scale="0.001 -0.001 0.001"/>
      </geometry>
    </collision>
  </link>
  <link name="LElb">
    <inertial>
      <origin rpy="0 0 0" xyz="-0.055754915 0.007582604 -0.043820396"/>
      <mass value="8.6765385e-01"/>
      <inertia ixx="0.0040395238" ixy="-0.00034973136" ixz="-0.00068400465" iyy="0.0022460561" iyz="-0.00028844444" izz="0.0044895027"/>
    </inertial>
    <visual>
      <origin rpy="0 0 0" xyz="0 0 0"/>
      <geometry name="LElb_visual">
        <mesh filename="package://bigman_urdf/meshes/Elbow.STL" scale="0.001 -0.001 0.001"/>
      </geometry>
      <material name="dark_grey"/>
    </visual>
    <collision>
      <origin rpy="0 0 0" xyz="0 0 0"/>
      <geometry name="LElb_collision">
        <mesh filename="package://bigman_urdf/meshes/simple/Elbow.STL" scale="0.001 -0.001 0.001"/>
      </geometry>
    </collision>
  </link>
  <!-- JOINTS -->
  <!-- RIGHT ARM -->
  <joint name="RShSag" type="revolute">
    <parent link="DWYTorso"/>
    <child link="RShp"/>
    <origin rpy="0 0 0.3491" xyz="0.045646 -0.219164 0.001531"/>
    <axis xyz="0 0.743144825 -0.669130606"/>
    <limit effort="120" lower="-2.84488668074" upper="2.8099800957" velocity="6.283"/>
    <dynamics damping="3.0" friction="0"/>
  </joint>
  <joint name="RShLat" type="revolute">
    <parent link="RShp"/>
    <child link="RShr"/>
    <origin rpy="0 0 0" xyz="0.0 -0.116568264 0.03364"/>
    <axis xyz="1 0 0"/>
    <limit effort="120" lower="-3.8571776469" upper="-0.122173047639" velocity="6.283"/>
    <dynamics damping="3.0" friction="0"/>
  </joint>
  <joint name="RShYaw" type="revolute">
    <parent link="RShr"/>
    <child link="RShy"/>
    <origin rpy="0 0 0" xyz="0.0 0.0 -0.222"/>
    <axis xyz="0 0 1"/>
    <limit effort="120" lower="-2.86233997326" upper="2.82743338822" velocity="6.283"/>
    <dynamics damping="3.0" friction="0"/>
  </joint>
  <joint name="RElbj" type="revolute">
    <parent link="RShy"/>
    <child link="RElb"/>
    <origin rpy="0 0 0" xyz="0.036 0.0 -0.15"/>
    <axis xyz="0 1 0"/>
    <limit effort="120" lower="-2.96705972838" upper="0.593411945677" velocity="6.283"/>
    <dynamics damping="3.0" friction="0"/>
  </joint>
  <!-- LEFT ARM -->
  <joint name="LShSag" type="revolute">
    <parent link="DWYTorso"/>
    <child link="LShp"/>
    <origin rpy="0 0 -0.3491" xyz="0.045646 0.219164 0.001531"/>
    <axis xyz="0.0 0.743144825 0.669130606"/>
    <limit effort="120" lower="-2.87979326578" upper="2.79252680318" velocity="6.283"/>
    <dynamics damping="3.0" friction="0"/>
  </joint>
  <joint name="LShLat" type="revolute">
    <parent link="LShp"/>
    <child link="LShr"/>
    <origin rpy="0 0 0" xyz="0.0 0.116568264 0.03364"/>
    <axis xyz="1 0 0"/>
    <limit effort="120" lower="0.0872664625995" upper="3.8571776469" velocity="6.283"/>
    <dynamics damping="3.0" friction="0"/>
  </joint>
  <joint name="LShYaw" type="revolute">
    <parent link="LShr"/>
    <child link="LShy"/>
    <origin rpy="0 0 0" xyz="0.0 0.0 -0.222"/>
    <axis xyz="0 0 1"/>
    <limit effort="120" lower="-2.84488668074" upper="2.84488668074" velocity="6.283"/>
    <dynamics damping="3.0" friction="0"/>
  </joint>
  <joint name="LElbj" type="revolute">
    <parent link="LShy"/>
    <child link="LElb"/>
    <origin rpy="0 0 0" xyz="0.036 0.0 -0.15"/>
    <axis xyz="0 1 0"/>
    <limit effort="120" lower="-2.96705972838" upper="0.593411945677" velocity="6.283"/>
    <dynamics damping="3.0" friction="0"/>
  </joint>
  <!-- R_WRIST CALIBRATION FRAMES -->
  <joint name="r_wrist_calib_joint_base" type="fixed">
    <parent link="RWrMot3"/>
    <child link="r_wrist_calibration_link_base"/>
    <origin rpy="0 0 1.57079632679" xyz="0.0 0.055 -0.0495"/>
  </joint>
  <link name="r_wrist_calibration_link_base"/>
  <link name="r_wrist_calibration_link_A"/>
  <link name="r_wrist_calibration_link_B"/>
  <link name="r_wrist_calibration_link_C"/>
  <joint name="r_wrist_calib_joint_A" type="fixed">
    <parent link="r_wrist_calibration_link_base"/>
    <child link="r_wrist_calibration_link_A"/>
    <origin rpy="0 0 0" xyz="0.0113 0.0141421 0.0141421"/>
  </joint>
  <joint name="r_wrist_calib_joint_B" type="fixed">
    <parent link="r_wrist_calibration_link_base"/>
    <child link="r_wrist_calibration_link_B"/>
    <origin rpy="0 0 0" xyz="0.0113 0.00417519 -0.029708"/>
  </joint>
  <joint name="r_wrist_calib_joint_C" type="fixed">
    <parent link="r_wrist_calibration_link_base"/>
    <child link="r_wrist_calibration_link_C"/>
    <origin rpy="0 0 0" xyz="0.0113 -0.0449965 0.000560229"/>
  </joint>
  <!-- L_WRIST CALIBRATION FRAMES -->
  <joint name="l_wrist_calib_joint_base" type="fixed">
    <parent link="LWrMot3"/>
    <child link="l_wrist_calibration_link_base"/>
    <origin rpy="0 0 -1.57079632679" xyz="0.0 -0.055 -0.0495"/>
  </joint>
  <link name="l_wrist_calibration_link_base"/>
  <link name="l_wrist_calibration_link_A"/>
  <link name="l_wrist_calibration_link_B"/>
  <link name="l_wrist_calibration_link_C"/>
  <joint name="l_wrist_calib_joint_A" type="fixed">
    <parent link="l_wrist_calibration_link_base"/>
    <child link="l_wrist_calibration_link_A"/>
    <origin rpy="0 0 0" xyz="0.0113 0.0212132 0.0212132"/>
  </joint>
  <joint name="l_wrist_calib_joint_B" type="fixed">
    <parent link="l_wrist_calibration_link_base"/>
    <child link="l_wrist_calibration_link_B"/>
    <origin rpy="0 0 0" xyz="0.0113 0.0115702 -0.0137888"/>
  </joint>
  <joint name="l_wrist_calib_joint_C" type="fixed">
    <parent link="l_wrist_calibration_link_base"/>
    <child link="l_wrist_calibration_link_C"/>
    <origin rpy="0 0 0" xyz="0.0113 -0.0395075 -0.00625738"/>
  </joint>
  <!-- WAIST CALIBRATION FRAMES -->
  <joint name="pelvis_calib_joint_base" type="fixed">
    <parent link="Waist"/>
    <child link="pelvis_calibration_link_base"/>
    <origin rpy="0 0 0" xyz="0.1 0.0 -0.043"/>
  </joint>
  <link name="pelvis_calibration_link_base"/>
  <link name="pelvis_calibration_link_A"/>
  <link name="pelvis_calibration_link_B"/>
  <link name="pelvis_calibration_link_C"/>
  <joint name="pelvis_calib_joint_A" type="fixed">
    <parent link="pelvis_calibration_link_base"/>
    <child link="pelvis_calibration_link_A"/>
    <origin rpy="0 0 0" xyz="0.0423 0.0 0.0527"/>
  </joint>
  <joint name="pelvis_calib_joint_B" type="fixed">
    <parent link="pelvis_calibration_link_base"/>
    <child link="pelvis_calibration_link_B"/>
    <origin rpy="0 0 0" xyz="0.0423 0.03 -0.0073"/>
  </joint>
  <joint name="pelvis_calib_joint_C" type="fixed">
    <parent link="pelvis_calibration_link_base"/>
    <child link="pelvis_calibration_link_C"/>
    <origin rpy="0 0 0" xyz="0.0423 -0.0353676 -0.0353676"/>
  </joint>
  <!-- ************ BIGMAN FLOATING BASE ************** -->
  <link name="world"/>
  <joint name="reference" type="floating">
    <origin xyz="0.0 0.0 0.0"/>
    <parent link="world"/>
    <child link="base_link"/>
  </joint>
  <!-- ***** LEGS F/T SENSOR REF FRAMES *******-->
  <link name="l_leg_ft"/>
  <link name="r_leg_ft"/>
  <joint name="l_leg_ft_joint" type="fixed">
    <parent link="LFoot"/>
    <child link="l_leg_ft"/>
    <origin rpy="0 0 0" xyz="0.005 0 -0.107"/>
  </joint>
  <joint name="r_leg_ft_joint" type="fixed">
    <parent link="RFoot"/>
    <child link="r_leg_ft"/>
    <origin rpy="0 0 0" xyz="0.005 0 -0.107"/>
  </joint>
  <link name="l_arm_ft"/>
  <link name="r_arm_ft"/>
  <joint name="l_arm_ft_joint" type="fixed">
    <parent link="LWrMot3"/>
    <child link="l_arm_ft"/>
    <origin rpy="0 0 0" xyz="0 0 -0.0565"/>
  </joint>
  <joint name="r_arm_ft_joint" type="fixed">
    <parent link="RWrMot3"/>
    <child link="r_arm_ft"/>
    <origin rpy="0 0 0" xyz="0 0 -0.0565"/>
  </joint>
  <!-- ************ FOREARMS ************ -->
  <!-- This links are defined in order to be compliant with http://www.ros.org/reps/rep-0120.html#coordinate-frames
	and to define the end effectors of the robot -->
  <!-- position and orientation of the arm regardless of the tool (grasping device for instance) attached to it -->
  <link name="l_wrist"/>
  <link name="r_wrist"/>
  <!-- ****************LINKS**************** -->
  <!-- ****************LEFT FOREARM**************** -->
  <link name="LForearm">
    <inertial>
      <origin rpy="0 0 0" xyz="1.2625599e-05 0.0042975381 0.044717986"/>
      <mass value="2.2127686"/>
      <inertia ixx="0.0065428368" ixy="-4.1196967e-05" ixz="3.272727e-06" iyy="0.005587829" iyz="0.00042088668" izz="0.0024783023"/>
    </inertial>
    <visual>
      <origin rpy="0 0 0" xyz="0 0 0"/>
      <geometry name="LForearm_visual">
        <mesh filename="package://bigman_urdf/meshes/Forearm.STL" scale="0.001 -0.001 0.001"/>
      </geometry>
      <material name="dark_grey"/>
    </visual>
    <collision>
      <origin rpy="0 0 0" xyz="0 0 0"/>
      <geometry name="LForearm_collision">
        <mesh filename="package://bigman_urdf/meshes/simple/Forearm.STL" scale="0.001 -0.001 0.001"/>
      </geometry>
    </collision>
  </link>
  <link name="LWrMot2">
    <inertial>
      <origin rpy="0 0 0" xyz="0.009819377 0.0013797184 -0.080380065"/>
      <mass value="1.2838072"/>
      <inertia ixx="0.001994124" ixy="2.569706e-05" ixz="0.00017443538" iyy="0.0021755329" iyz="-0.00012100987" izz="0.001830376"/>
    </inertial>
    <visual>
      <origin rpy="0 0 0" xyz="0 0 0"/>
      <geometry name="LWrMot2_visual">
        <mesh filename="package://bigman_urdf/meshes/ForearmPitch.STL" scale="0.001 -0.001 0.001"/>
      </geometry>
      <material name="dark_grey"/>
    </visual>
    <collision>
      <origin rpy="0 0 0" xyz="0 0 0"/>
      <geometry name="LWrMot2_collision">
        <mesh filename="package://bigman_urdf/meshes/simple/ForearmPitch.STL" scale="0.001 -0.001 0.001"/>
      </geometry>
    </collision>
  </link>
  <link name="LWrMot3">
    <inertial>
      <origin rpy="0 0 0" xyz="0.0070380706 -1.0811188e-05 -0.039669274"/>
      <mass value="4.2801447e-01"/>
      <inertia ixx="0.00028620156" ixy="5.2570457e-08" ixz="-3.9174213e-05" iyy="0.00071261855" iyz="-9.5020266e-08" izz="0.00061444258"/>
    </inertial>
    <visual>
      <origin rpy="0 0 0" xyz="0 0 0"/>
      <geometry name="LWrMot3_visual">
        <mesh filename="package://bigman_urdf/meshes/ForearmRoll.STL" scale="0.001 -0.001 0.001"/>
      </geometry>
      <material name="blue"/>
    </visual>
    <collision>
      <origin rpy="0 0 0" xyz="0 0 0"/>
      <geometry name="LWrMot3_collision">
        <mesh filename="package://bigman_urdf/meshes/simple/ForearmRoll.STL" scale="0.001 -0.001 0.001"/>
      </geometry>
    </collision>
  </link>
  <!-- ****************RIGHT FOREARM**************** -->
  <link name="RForearm">
    <inertial>
      <origin rpy="0 0 0" xyz="1.2625599e-05 -0.0042975381 0.044717986"/>
      <mass value="2.2127686"/>
      <inertia ixx="0.0065428368" ixy="4.1196967e-05" ixz="3.272727e-06" iyy="0.005587829" iyz="-0.00042088668" izz="0.0024783023"/>
    </inertial>
    <visual>
      <origin rpy="0 0 0" xyz="0 0 0"/>
      <geometry name="RForearm_visual">
        <mesh filename="package://bigman_urdf/meshes/Forearm.STL" scale="0.001 0.001 0.001"/>
      </geometry>
      <material name="dark_grey"/>
    </visual>
    <collision>
      <origin rpy="0 0 0" xyz="0 0 0"/>
      <geometry name="RForearm_collision">
        <mesh filename="package://bigman_urdf/meshes/simple/Forearm.STL" scale="0.001 0.001 0.001"/>
      </geometry>
    </collision>
  </link>
  <link name="RWrMot2">
    <inertial>
      <origin rpy="0 0 0" xyz="0.009819377 -0.0013797184 -0.080380065"/>
      <mass value="1.2838072"/>
      <inertia ixx="0.001994124" ixy="-2.569706e-05" ixz="0.00017443538" iyy="0.0021755329" iyz="0.00012100987" izz="0.001830376"/>
    </inertial>
    <visual>
      <origin rpy="0 0 0" xyz="0 0 0"/>
      <geometry name="RWrMot2_visual">
        <mesh filename="package://bigman_urdf/meshes/ForearmPitch.STL" scale="0.001 0.001 0.001"/>
      </geometry>
      <material name="dark_grey"/>
    </visual>
    <collision>
      <origin rpy="0 0 0" xyz="0 0 0"/>
      <geometry name="RWrMot2_collision">
        <mesh filename="package://bigman_urdf/meshes/simple/ForearmPitch.STL" scale="0.001 0.001 0.001"/>
      </geometry>
    </collision>
  </link>
  <link name="RWrMot3">
    <inertial>
      <origin rpy="0 0 0" xyz="0.0070380706 1.0811188e-05 -0.039669274"/>
      <mass value="4.2801447e-01"/>
      <inertia ixx="0.00028620156" ixy="-5.2570457e-08" ixz="-3.9174213e-05" iyy="0.00071261855" iyz="9.5020266e-08" izz="0.00061444258"/>
    </inertial>
    <visual>
      <origin rpy="0 0 0" xyz="0 0 0"/>
      <geometry name="RWrMot3_visual">
        <mesh filename="package://bigman_urdf/meshes/ForearmRoll.STL" scale="0.001 0.001 0.001"/>
      </geometry>
      <material name="blue"/>
    </visual>
    <collision>
      <origin rpy="0 0 0" xyz="0 0 0"/>
      <geometry name="RWrMot3_collision">
        <mesh filename="package://bigman_urdf/meshes/simple/ForearmRoll.STL" scale="0.001 0.001 0.001"/>
      </geometry>
    </collision>
  </link>
  <!-- ****************JOINTS**************** -->
  <!-- ****************LEFT FOREARM**************** -->
  <joint name="LForearmPlate" type="revolute">
    <parent link="LElb"/>
    <child link="LForearm"/>
    <origin rpy="0 0 0" xyz="-0.075 0.0 -0.1955"/>
    <axis xyz="0 0 1"/>
    <limit effort="60" lower="-2.529" upper="2.529" velocity="6.283"/>
    <dynamics damping="0.03" friction="0"/>
  </joint>
  <joint name="LWrj1" type="revolute">
    <parent link="LForearm"/>
    <child link="LWrMot2"/>
    <origin rpy="0 0 0" xyz="0 0 0"/>
    <axis xyz="0 1 0"/>
    <limit effort="60" lower="-1.48" upper="1.48" velocity="6.283"/>
    <dynamics damping="0.03" friction="0"/>
  </joint>
  <joint name="LWrj2" type="revolute">
    <parent link="LWrMot2"/>
    <child link="LWrMot3"/>
    <origin rpy="0 0 0" xyz="0 0 -0.092"/>
    <axis xyz="1 0 0"/>
    <limit effort="60" lower="-1.48" upper="1.48" velocity="6.283"/>
    <dynamics damping="0.03" friction="0"/>
  </joint>
  <joint name="l_wrist_joint" type="fixed">
    <parent link="LWrMot3"/>
    <child link="l_wrist"/>
    <origin rpy="0 0 0" xyz="0 0 0"/>
  </joint>
  <!-- ****************RIGHT FOREARM**************** -->
  <joint name="RForearmPlate" type="revolute">
    <parent link="RElb"/>
    <child link="RForearm"/>
    <origin rpy="0 0 0" xyz="-0.075 0.0 -0.1955"/>
    <axis xyz="0 0 1"/>
    <limit effort="60" lower="-2.529" upper="2.529" velocity="6.283"/>
    <dynamics damping="0.03" friction="0"/>
  </joint>
  <joint name="RWrj1" type="revolute">
    <parent link="RForearm"/>
    <child link="RWrMot2"/>
    <origin rpy="0 0 0" xyz="0 0 0"/>
    <axis xyz="0 1 0"/>
    <limit effort="60" lower="-1.48" upper="1.48" velocity="6.283"/>
    <dynamics damping="0.03" friction="0"/>
  </joint>
  <joint name="RWrj2" type="revolute">
    <parent link="RWrMot2"/>
    <child link="RWrMot3"/>
    <origin rpy="0 0 0" xyz="0 0 -0.092"/>
    <axis xyz="1 0 0"/>
    <limit effort="60" lower="-1.48" upper="1.48" velocity="6.283"/>
    <dynamics damping="0.03" friction="0"/>
  </joint>
  <joint name="r_wrist_joint" type="fixed">
    <parent link="RWrMot3"/>
    <child link="r_wrist"/>
    <origin rpy="0 0 0" xyz="0 0 0"/>
  </joint>
  <!-- ************ HANDS ************ -->
  <!-- For the hand we use the inertia of a parallelepiped -->
  <!-- LINKS -->
  <link name="RSoftHand"/>
  <link name="TCP_R"/>
  <link name="RSoftHandLink">
    <inertial>
      <origin rpy="0 0 0" xyz="0 0 -0.17"/>
      <mass value="1.2"/>
      <inertia ixx="0.00232" ixy="0" ixz="0" iyy="0.00296" iyz="0" izz="0.00136"/>
    </inertial>
    <visual>
      <origin rpy="0.0 0.0 0.0" xyz="0.0 0.0 0.0"/>
      <geometry name="RSoftHandLink_visual">
        <mesh filename="package://bigman_urdf/meshes/SoftHandOpen.STL" scale="0.001 0.001 0.001"/>
      </geometry>
      <material name="grey"/>
    </visual>
    <collision>
      <origin rpy="0.0 0.0 0.0" xyz="0.0 0.0 0.0"/>
      <geometry name="RSoftHandLink_collision">
        <mesh filename="package://bigman_urdf/meshes/simple/SoftHandOpen.STL" scale="0.001 0.001 0.001"/>
      </geometry>
    </collision>
  </link>
  <link name="r_hand_upper_right_link"/>
  <link name="r_hand_lower_right_link"/>
  <link name="r_hand_upper_left_link"/>
  <link name="r_hand_lower_left_link"/>
  <link name="LSoftHand"/>
  <link name="TCP_L"/>
  <link name="LSoftHandLink">
    <inertial>
      <origin rpy="0 0 0" xyz="0 0 -0.17"/>
      <mass value="1.2"/>
      <inertia ixx="0.00232" ixy="0" ixz="0" iyy="0.00296" iyz="0" izz="0.00136"/>
    </inertial>
    <visual>
      <origin rpy="0.0 0.0 0.0" xyz="0.0 0.0 0.0"/>
      <geometry name="LSoftHandLink_visual">
        <mesh filename="package://bigman_urdf/meshes/SoftHandOpen.STL" scale="0.001 -0.001 0.001"/>
      </geometry>
      <material name="grey"/>
    </visual>
    <collision>
      <origin rpy="0.0 0.0 0.0" xyz="0.0 0.0 0.0"/>
      <geometry name="LSoftHandLink_collision">
        <mesh filename="package://bigman_urdf/meshes/simple/SoftHandOpen.STL" scale="0.001 -0.001 0.001"/>
      </geometry>
    </collision>
  </link>
  <link name="l_hand_upper_right_link"/>
  <link name="l_hand_lower_right_link"/>
  <link name="l_hand_upper_left_link"/>
  <link name="l_hand_lower_left_link"/>
  <!-- JOINTS -->
  <joint name="r_handj" type="fixed">
    <parent link="RWrMot3"/>
    <child link="RSoftHandLink"/>
    <origin rpy="0 0 0" xyz="0 0 0"/>
  </joint>
  <joint name="r_handj2" type="fixed">
    <parent link="RSoftHandLink"/>
    <child link="RSoftHand"/>
    <origin rpy="0 0 0" xyz="0 0.0305 -0.21"/>
  </joint>
  <joint name="r_handj3" type="fixed">
    <parent link="RSoftHand"/>
    <child link="r_hand_upper_right_link"/>
    <origin rpy="0 0 0" xyz="0.05 0.0 0.0"/>
  </joint>
  <joint name="r_handj4" type="fixed">
    <parent link="RSoftHand"/>
    <child link="r_hand_lower_right_link"/>
    <origin rpy="0 0 0" xyz="-0.05 0.0 0.0"/>
  </joint>
  <joint name="r_handj5" type="fixed">
    <parent link="RSoftHand"/>
    <child link="r_hand_upper_left_link"/>
    <origin rpy="0 0 0" xyz="0.05 0.0 0.1"/>
  </joint>
  <joint name="r_handj6" type="fixed">
    <parent link="RSoftHand"/>
    <child link="r_hand_lower_left_link"/>
    <origin rpy="0 0 0" xyz="-0.05 0.0 0.1"/>
  </joint>
  <joint name="l_handj" type="fixed">
    <parent link="LWrMot3"/>
    <child link="LSoftHandLink"/>
    <origin rpy="0 0 0" xyz="0 0 0"/>
  </joint>
  <joint name="l_handj2" type="fixed">
    <parent link="LSoftHandLink"/>
    <child link="LSoftHand"/>
    <origin rpy="0 0 0" xyz="0 -0.0305 -0.21"/>
  </joint>
  <joint name="l_handj3" type="fixed">
    <parent link="LSoftHand"/>
    <child link="l_hand_upper_right_link"/>
    <origin rpy="0 0 0" xyz="0.05 0.0 0.0"/>
  </joint>
  <joint name="l_handj4" type="fixed">
    <parent link="LSoftHand"/>
    <child link="l_hand_lower_right_link"/>
    <origin rpy="0 0 0" xyz="-0.05 0.0 0.0"/>
  </joint>
  <joint name="l_handj5" type="fixed">
    <parent link="LSoftHand"/>
    <child link="l_hand_upper_left_link"/>
    <origin rpy="0 0 0" xyz="0.05 0.0 0.1"/>
  </joint>
  <joint name="l_handj6" type="fixed">
    <parent link="LSoftHand"/>
    <child link="l_hand_lower_left_link"/>
    <origin rpy="0 0 0" xyz="-0.05 0.0 0.1"/>
  </joint>
  <joint name="TCP_Ljoint" type="fixed">
    <parent link="LSoftHand"/>
    <child link="TCP_L"/>
    <origin rpy="1.57079632679 3.14159265359 0" xyz="0.0 0.0 0.0"/>
  </joint>
  <joint name="TCP_Rjoint" type="fixed">
    <parent link="RSoftHand"/>
    <child link="TCP_R"/>
    <origin rpy="-1.57079632679 0 0" xyz="0.0 0.0 0.0"/>
  </joint>
  <!-- multisense_sl_v4 with fixed joints -->
  <joint name="neck_joint" type="fixed">
    <parent link="NeckPitch"/>
    <child link="multisense/head"/>
    <origin rpy="0 0 0" xyz="0.08765 0 0.06475"/>
  </joint>
  <!-- 
       Based on multisense_sl_v4.urdf in multisense_sl_description (DRCSIM) 
-->
  <!-- Head Link Simple Collision Meshes -->
  <link name="multisense/head">
    <inertial>
      <origin rpy="0 0 0" xyz="-0.075493 3.3383E-05 0.02774"/>
      <mass value="1.41984"/>
      <inertia ixx="0.0039688" ixy="-1.5797E-06" ixz="-0.00089293" iyy="0.0041178" iyz="-6.8415E-07" izz="0.0035243"/>
    </inertial>
    <visual>
      <origin rpy="0 0 0" xyz="0 0 0"/>
      <geometry>
        <mesh filename="package://bigman_urdf/meshes/Head.STL" scale="0.001 0.001 0.001"/>
      </geometry>
      <material name="dark_grey"/>
    </visual>
    <collision>
      <origin rpy="0 0 0" xyz="0 0 0"/>
      <geometry>
        <mesh filename="package://bigman_urdf/meshes/simple/Head.STL" scale="0.001 0.001 0.001"/>
      </geometry>
    </collision>
  </link>
  <link name="multisense/hokuyo_link">
    <inertial>
      <origin rpy="0 0 0" xyz="0.032428 0.0004084 -0.0041835"/>
      <mass value="0.057654"/>
      <inertia ixx="3.7174E-05" ixy="4.9927E-08" ixz="1.1015E-05" iyy="4.2412E-05" iyz="-9.8165E-09" izz="4.167E-05"/>
    </inertial>
    <visual>
      <origin rpy="1.5707963267949 0 1.5707963267949" xyz="0 0 0"/>
      <geometry>
        <mesh filename="package://bigman_urdf/meshes/hokuyo_link.STL"/>
      </geometry>
      <material name="black"/>
    </visual>
    <collision>
      <origin rpy="0 0 0" xyz="0.01885 0 -0.02119"/>
      <geometry>
        <box size="0.08 0.06 0.04238"/>
      </geometry>
    </collision>
    <collision>
      <origin rpy="0 0 0" xyz="0.03 0 0.0235"/>
      <geometry>
        <cylinder length="0.047" radius="0.024425"/>
      </geometry>
    </collision>
  </link>
  <!-- Remove frome here! -->
  <gazebo reference="multisense/head">
    <mu1>0.9</mu1>
    <mu2>0.9</mu2>
  </gazebo>
  <gazebo reference="multisense/hokuyo_link">
    <mu1>0.9</mu1>
    <mu2>0.9</mu2>
  </gazebo>
  <joint name="hokuyo_joint" type="continuous">
    <origin rpy="0 0 0" xyz="-0.0446 0 0.0880"/>
    <parent link="multisense/head"/>
    <child link="multisense/hokuyo_link"/>
    <axis xyz="1 0 0"/>
    <dynamics damping="0.01" friction="0"/>
  </joint>
  <!-- Remove frome here! -->
  <gazebo reference="hokuyo_joint">
    <implicitSpringDamper>1</implicitSpringDamper>
  </gazebo>
  <!-- Hokuyo Laser -->
  <joint name="head_hokuyo_joint" type="fixed">
    <axis xyz="0 1 0"/>
    <origin rpy="0 0 0" xyz="0.03 0 0.015"/>
    <parent link="multisense/hokuyo_link"/>
    <child link="multisense/head_hokuyo_frame"/>
  </joint>
  <link name="multisense/head_hokuyo_frame"/>
  <!-- Remove frome here! -->
  <gazebo reference="multisense/head_hokuyo_frame">
    <!-- sensor type="gpu_ray" name="head_hokuyo_sensor"-->
    <sensor name="head_hokuyo_sensor" type="ray">
      <pose>0 0 0 0 0 0</pose>
      <visualize>true</visualize>
      <update_rate>40</update_rate>
      <ray>
        <scan>
          <horizontal>
            <samples>720</samples>
            <resolution>1</resolution>
            <min_angle>-1.570796</min_angle>
            <max_angle>1.570796</max_angle>
          </horizontal>
        </scan>
        <range>
          <min>0.10</min>
          <max>30.0</max>
          <resolution>0.01</resolution>
        </range>
        <noise>
          <type>gaussian</type>
          <!-- Noise parameters based on published spec for Hokuyo laser
               achieving "+-30mm" accuracy at range < 10m.  A mean of 0.0m and
               stddev of 0.01m will put 99.7% of samples within 0.03m of the true
               reading. -->
          <mean>0.0</mean>
          <stddev>0.01</stddev>
        </noise>
      </ray>
      <!--plugin name="gazebo_ros_head_hokuyo_controller" filename="libgazebo_ros_gpu_laser.so"-->
      <plugin filename="libgazebo_ros_laser.so" name="gazebo_ros_head_hokuyo_controller">
        <topicName>/multisense/lidar_scan</topicName>
        <frameName>multisense/head_hokuyo_frame</frameName>
      </plugin>
    </sensor>
  </gazebo>
  <!-- Stereo Camera -->
  <joint name="left_camera_frame_joint" type="fixed">
    <!-- optical frame collocated with tilting DOF -->
    <origin xyz="0.0 0.035 -0.002"/>
    <parent link="multisense/head"/>
    <child link="multisense/left_camera_frame"/>
  </joint>
  <link name="multisense/left_camera_frame"/>
  <joint name="left_camera_optical_frame_joint" type="fixed">
    <origin rpy="-1.5708 0.0 -1.5708" xyz="0 0 0"/>
    <parent link="multisense/left_camera_frame"/>
    <child link="multisense/left_camera_optical_frame"/>
  </joint>
  <link name="multisense/left_camera_optical_frame"/>
  <gazebo reference="multisense/left_camera_frame">
    <sensor name="stereo_camera" type="multicamera">
      <!-- see MultiSenseSLPlugin.h for available modes -->
      <update_rate>30.0</update_rate>
      <camera name="left">
        <!-- Spec sheet says 80deg X 45deg @ 1024x544pix.  Based on feedback
             from teams, we're instead doing 80deg X 80deg @ 800x800pix. -->
        <horizontal_fov>1.3962634</horizontal_fov>
        <image>
          <width>800</width>
          <height>800</height>
          <format>R8G8B8</format>
        </image>
        <clip>
          <near>0.02</near>
          <far>300</far>
        </clip>
        <noise>
          <type>gaussian</type>
          <!-- Noise is sampled independently per pixel on each frame.  
               That pixel's noise value is added to each of its color
               channels, which at that point lie in the range [0,1].
               The stddev value of 0.007 is based on experimental data 
               from a camera in a Sandia hand pointed at a static scene
               in a couple of different lighting conditions.  -->
          <mean>0.0</mean>
          <stddev>0.007</stddev>
        </noise>
      </camera>
      <camera name="right">
        <pose>0 -0.07 0 0 0 0</pose>
        <!-- Spec sheet says 80deg X 45deg @ 1024x544pix.  Based on feedback
             from teams, we're instead doing 80deg X 80deg @ 800x800pix. -->
        <horizontal_fov>1.3962634</horizontal_fov>
        <image>
          <width>800</width>
          <height>800</height>
          <format>R8G8B8</format>
        </image>
        <clip>
          <near>0.02</near>
          <far>300</far>
        </clip>
        <noise>
          <type>gaussian</type>
          <!-- Noise is sampled independently per pixel on each frame.  
               That pixel's noise value is added to each of its color
               channels, which at that point lie in the range [0,1].
               The stddev value of 0.007 is based on experimental data 
               from a camera in a Sandia hand pointed at a static scene
               in a couple of different lighting conditions.  -->
          <mean>0.0</mean>
          <stddev>0.007</stddev>
        </noise>
      </camera>
      <plugin filename="libgazebo_ros_multicamera.so" name="stereo_camera_controller">
        <alwaysOn>true</alwaysOn>
        <updateRate>0.0</updateRate>
        <cameraName>multisense/camera</cameraName>
        <imageTopicName>image_raw</imageTopicName>
        <cameraInfoTopicName>camera_info</cameraInfoTopicName>
        <frameName>multisense/left_camera_optical_frame</frameName>
        <rightFrameName>multisense/right_camera_optical_frame</rightFrameName>
        <hackBaseline>0.07</hackBaseline>
        <distortionK1>0.0</distortionK1>
        <distortionK2>0.0</distortionK2>
        <distortionK3>0.0</distortionK3>
        <distortionT1>0.0</distortionT1>
        <distortionT2>0.0</distortionT2>
      </plugin>
    </sensor>
  </gazebo>
  <joint name="right_camera_frame_joint" type="fixed">
    <origin xyz="0.0 -0.035 -0.002"/>
    <parent link="multisense/head"/>
    <child link="multisense/right_camera_frame"/>
  </joint>
  <link name="multisense/right_camera_frame"/>
  <joint name="right_camera_optical_frame_joint" type="fixed">
    <origin rpy="-1.5708 0.0 -1.5708" xyz="0 0 0"/>
    <parent link="multisense/right_camera_frame"/>
    <child link="multisense/right_camera_optical_frame"/>
  </joint>
  <link name="multisense/right_camera_optical_frame"/>
  <joint name="center_top_led_frame_joint" type="fixed">
    <origin xyz="0.01125 0.0 0.0105"/>
    <parent link="multisense/head"/>
    <child link="multisense/center_top_led_frame"/>
  </joint>
  <link name="multisense/center_top_led_frame"/>
  <joint name="center_bottom_led_frame_joint" type="fixed">
    <origin xyz="0.01125 0.0 -0.0155"/>
    <parent link="multisense/head"/>
    <child link="multisense/center_bottom_led_frame"/>
  </joint>
  <link name="multisense/center_bottom_led_frame"/>
  <joint name="left_led_frame_joint" type="fixed">
    <origin rpy="0 0 0.6" xyz="-0.01443 0.07452 0.050346"/>
    <parent link="multisense/head"/>
    <child link="multisense/left_led_frame"/>
  </joint>
  <link name="multisense/left_led_frame"/>
  <joint name="right_led_frame_joint" type="fixed">
    <origin rpy="0 0 -0.6" xyz="-0.01443 -0.07452 0.050346"/>
    <parent link="multisense/head"/>
    <child link="multisense/right_led_frame"/>
  </joint>
  <link name="multisense/right_led_frame"/>
  <gazebo>
    <plugin filename="libMultiSenseSLPlugin2.so" name="multisense_plugin"/>
  </gazebo>
  <!-- imu link -->
  <link name="multisense/head_imu_link">
    <inertial>
      <mass value="1e-5"/>
      <!-- collocate with parent link and remove mass from it -->
      <origin rpy="0 0 0" xyz="-0.122993 0.035033383 0.02774"/>
      <inertia ixx="1e-6" ixy="0" ixz="0" iyy="1e-6" iyz="0" izz="1e-6"/>
    </inertial>
    <visual>
      <origin rpy="0 0 0" xyz="0 0 0"/>
      <geometry>
        <box size="0.01 0.01 0.01"/>
      </geometry>
    </visual>
  </link>
  <joint name="head_imu_joint" type="fixed">
    <parent link="multisense/head"/>
    <child link="multisense/head_imu_link"/>
    <!-- putting it at the same z-level as the stereo -->
    <origin rpy="0 0 0" xyz="-0.0475 0.035 0.0"/>
  </joint>
  <gazebo reference="multisense/head_imu_link">
    <!-- this is expected to be reparented to head with appropriate offset
         when head_imu_link is reduced by fixed joint reduction -->
    <!-- todo: this is working with gazebo 1.4, need to write a unit test -->
    <sensor name="head_imu_sensor" type="imu">
      <always_on>1</always_on>
      <update_rate>1000.0</update_rate>
      <imu>
        <noise>
          <type>gaussian</type>
          <!-- Noise parameters from Boston Dynamics
               (http://gazebosim.org/wiki/Sensor_noise):
                 rates (rad/s): mean=0, stddev=2e-4
                 accels (m/s/s): mean=0, stddev=1.7e-2
                 rate bias (rad/s): 5e-6 - 1e-5
                 accel bias (m/s/s): 1e-1
               Experimentally, simulation provide rates with noise of
               about 1e-3 rad/s and accels with noise of about 1e-1 m/s/s.
               So we don't expect to see the noise unless number of inner iterations
               are increased.

               We will add bias.  In this model, bias is sampled once for rates
               and once for accels at startup; the sign (negative or positive)
               of each bias is then switched with equal probability.  Thereafter,
               the biases are fixed additive offsets.  We choose
               bias means and stddevs to produce biases close to the provided
               data. -->
          <rate>
            <mean>0.0</mean>
            <stddev>2e-4</stddev>
            <bias_mean>0.0000075</bias_mean>
            <bias_stddev>0.0000008</bias_stddev>
          </rate>
          <accel>
            <mean>0.0</mean>
            <stddev>1.7e-2</stddev>
            <bias_mean>0.1</bias_mean>
            <bias_stddev>0.001</bias_stddev>
          </accel>
        </noise>
      </imu>
    </sensor>
  </gazebo>
  <link name="gaze"/>
  <joint name="gaze_joint" type="fixed">
    <parent link="multisense/head"/>
    <child link="gaze"/>
    <origin rpy="0 0 0" xyz="0 0 0"/>
  </joint>
  <!-- IMU -->
  <link name="imu_link">
    <inertial>
      <mass value="0.01"/>
      <origin xyz="0 0 0"/>
      <inertia ixx="1.0E-6" ixy="0" ixz="0" iyy="1.0E-6" iyz="0" izz="1.0E-6"/>
    </inertial>
    <visual>
      <origin rpy="0 0 0" xyz="0 0 0"/>
      <geometry>
        <box size="0.01 0.01 0.01"/>
      </geometry>
    </visual>
  </link>
  <link name="imu_link2">
    <inertial>
      <mass value="0.01"/>
      <origin xyz="0 0 0"/>
      <inertia ixx="1.0E-6" ixy="0" ixz="0" iyy="1.0E-6" iyz="0" izz="1.0E-6"/>
    </inertial>
    <visual>
      <origin rpy="0 0 0" xyz="0 0 0"/>
      <geometry>
        <box size="0.01 0.01 0.01"/>
      </geometry>
    </visual>
  </link>
  <joint name="imu_joint" type="fixed">
    <parent link="Waist"/>
    <child link="imu_link"/>
    <origin rpy="0 0 0" xyz="0.0535 0.0 0.0601"/>
  </joint>
  <joint name="imu_joint2" type="fixed">
    <parent link="Waist"/>
    <child link="imu_link2"/>
    <origin rpy="0 0 0" xyz="0.0135 0.0 0.0601"/>
  </joint>
</robot>
